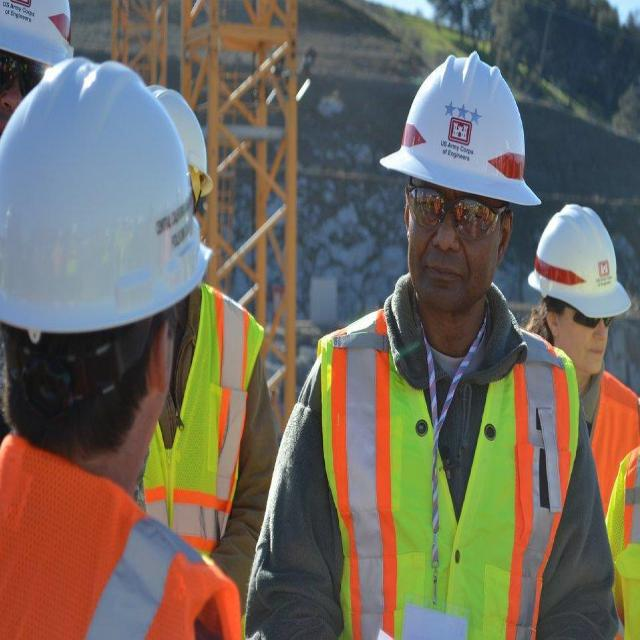Vest: (309, 315, 592, 634), (111, 248, 270, 568), (500, 331, 639, 610)
